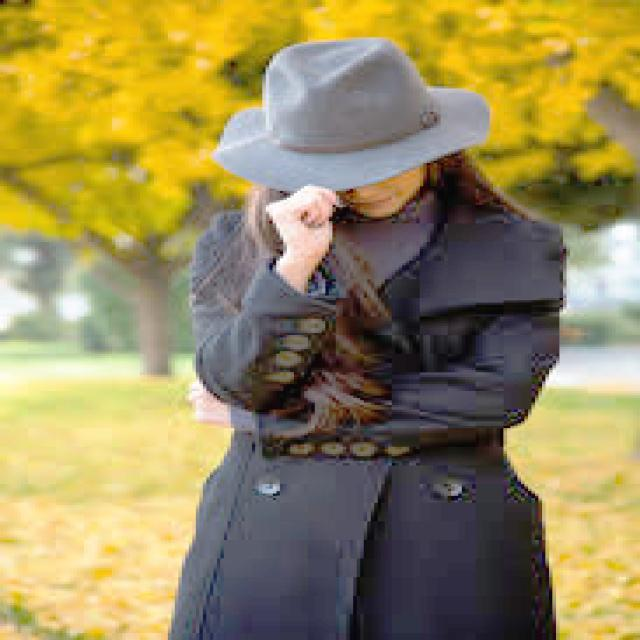TOPI: (209, 33, 496, 193)
